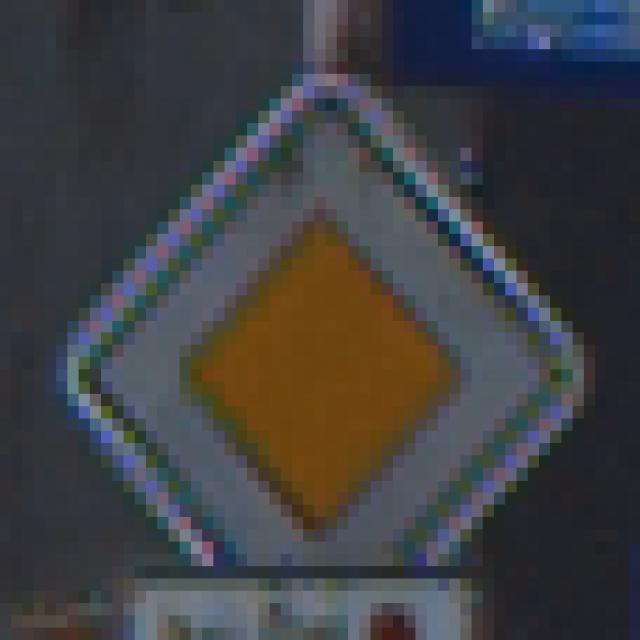Main Road: (57, 75, 585, 579)
